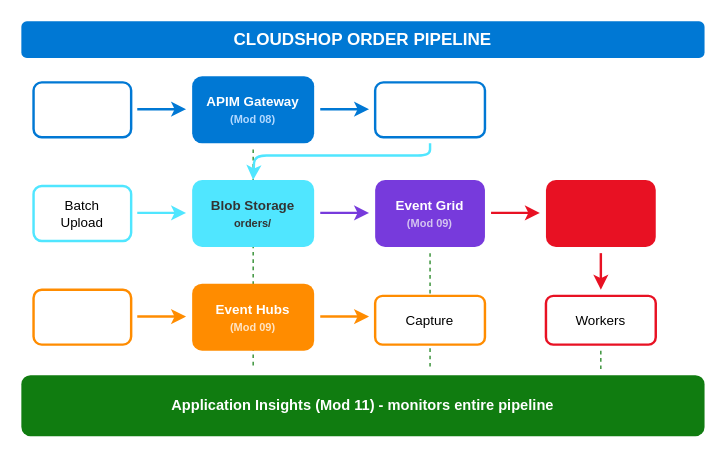
Image size: 725x456. Some labels were removed from this diagram. Each missing label, with the centre of its shape:
Orders API (Function): point (429, 109)
Partners: point (82, 109)
Service Bus (Mod 10): point (600, 212)
Website (clicks): point (82, 316)
